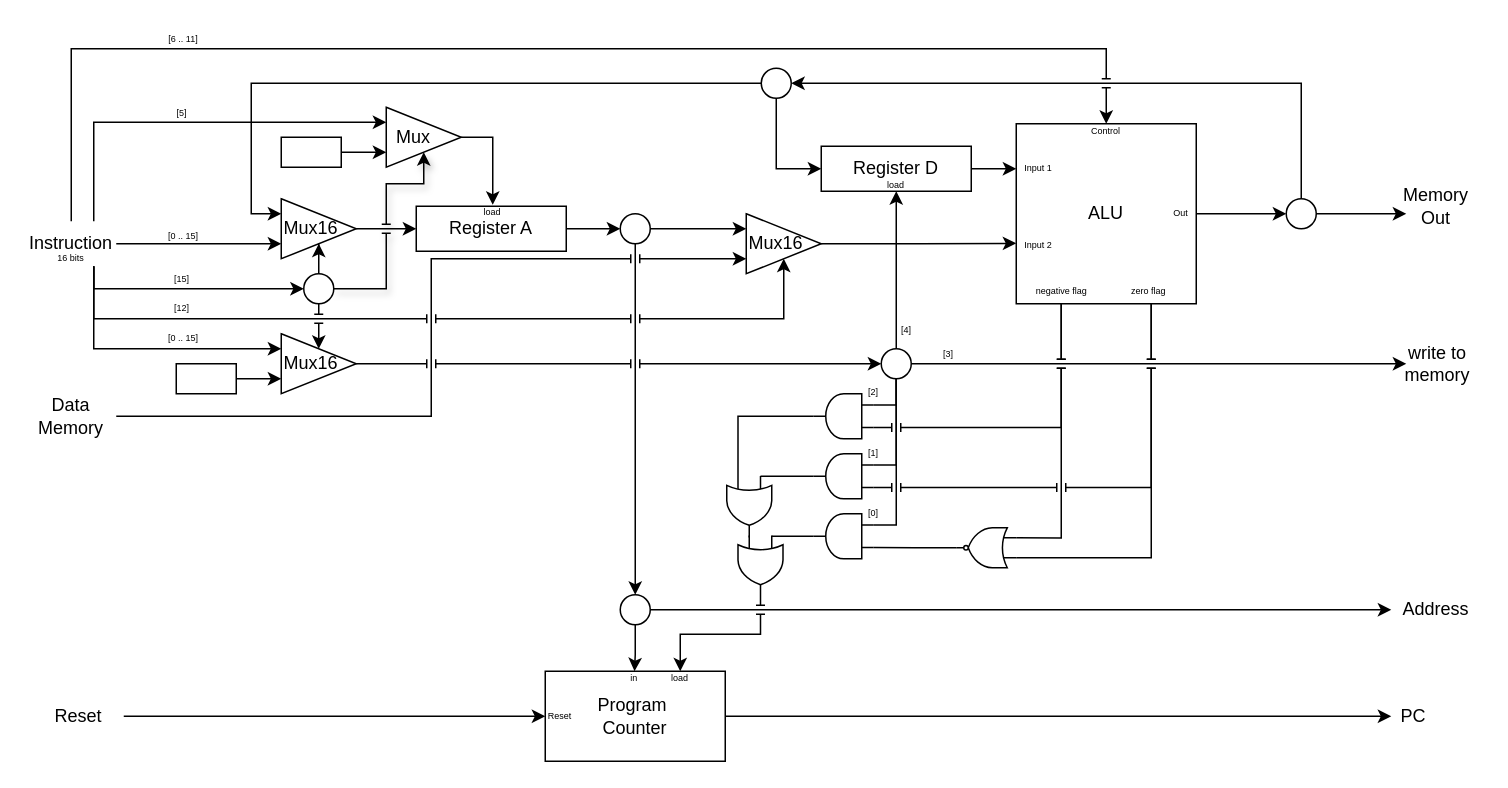
Some shapes in this 1508 by 788 pixel diagram are drawn without their labels. The centre of each missing label's shape, as x and y in pixels:
False: pixel 205 378
True: pixel 310 151
